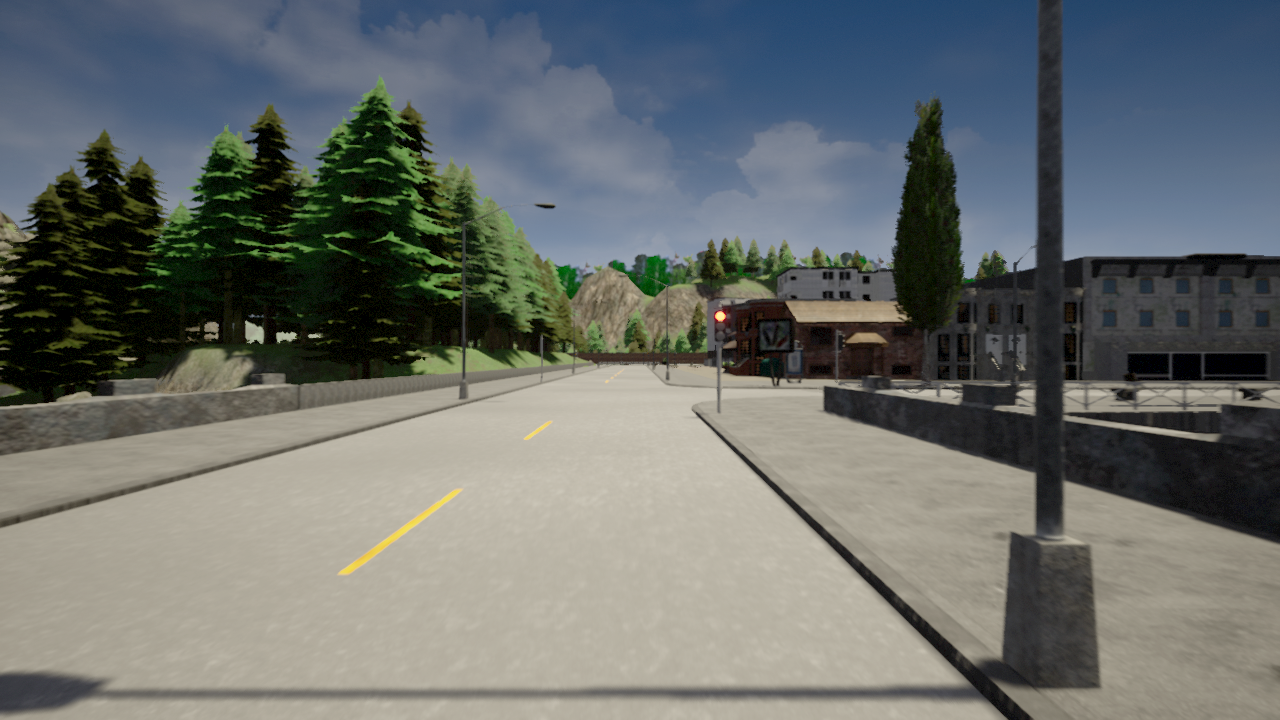red: (713, 310, 728, 342)
